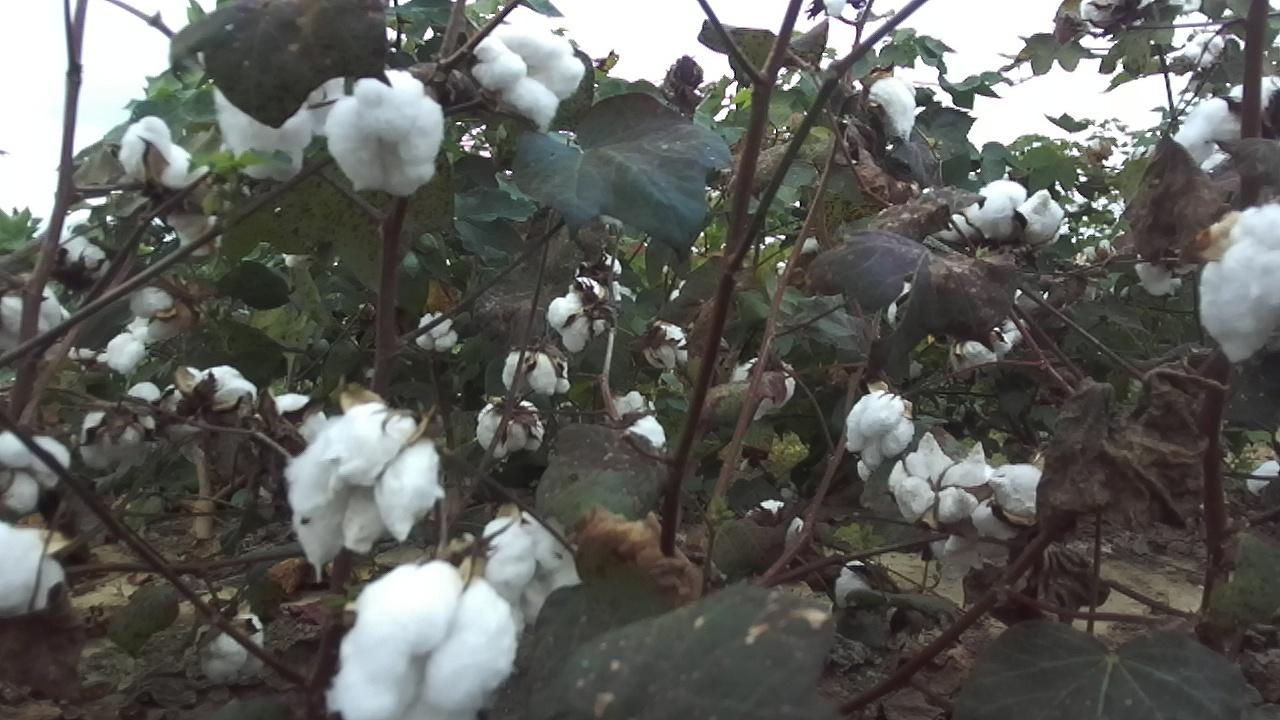cotton_ready: (1138, 72, 1280, 292), (328, 559, 518, 720), (286, 401, 448, 581), (214, 57, 356, 169), (324, 71, 446, 198), (936, 461, 1049, 581), (1200, 204, 1280, 364), (481, 507, 589, 625), (474, 20, 585, 127), (932, 179, 1065, 247), (891, 447, 994, 531), (80, 377, 163, 472), (0, 518, 72, 620), (0, 267, 67, 362), (0, 431, 74, 516), (845, 390, 915, 470), (195, 613, 267, 688), (549, 274, 615, 355), (124, 117, 189, 189), (165, 365, 258, 412), (477, 393, 542, 456), (500, 342, 571, 397), (868, 80, 918, 148)
